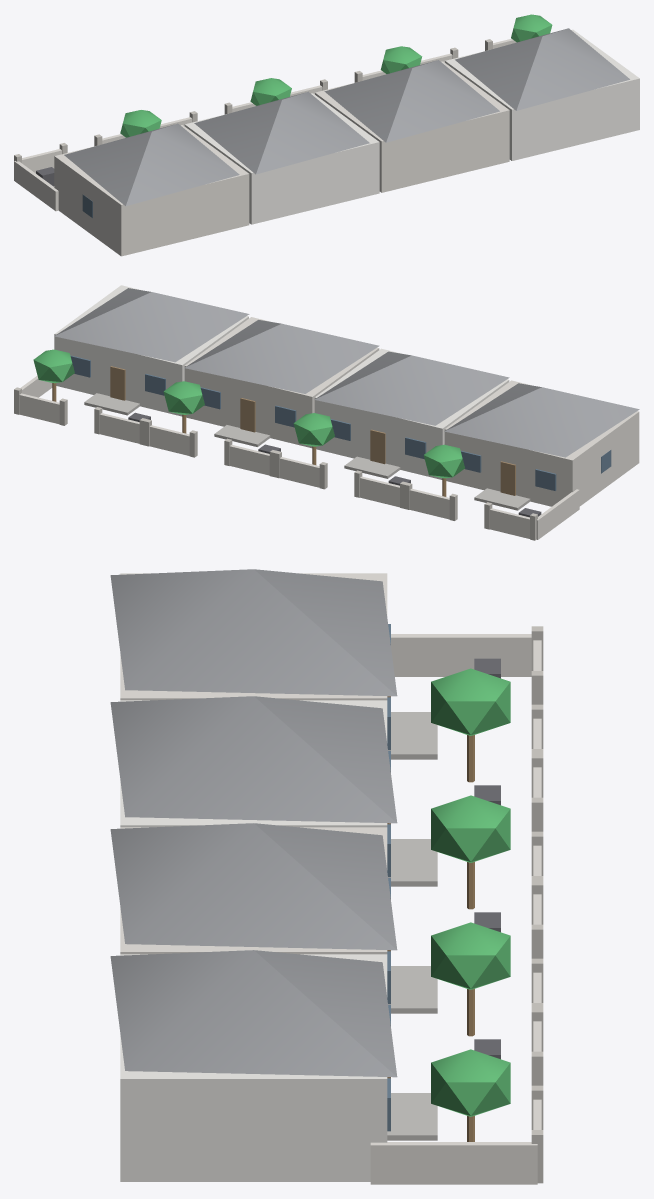
File: estate_bungalow_2.glb
3 renders of one model, top to bottom at view 1: azimuth 30°, elevation 25°; view 2: azimuth 150°, elevation 25°; view 3: azimuth 270°, elevation 25°, orthographic. The views are drawn at different scales.
Parts seen in each view (by area): view 1: BLD_estate_bungalow_2; view 2: BLD_estate_bungalow_2; view 3: BLD_estate_bungalow_2.
Boxes of the visible parts, left/top/right/bottom form: BLD_estate_bungalow_2: left=14, top=14, right=639, bottom=256; BLD_estate_bungalow_2: left=14, top=285, right=639, bottom=540; BLD_estate_bungalow_2: left=110, top=569, right=543, bottom=1184.
Bounding box in the file's own units: 36.25 × 5.6 × 12.97.
